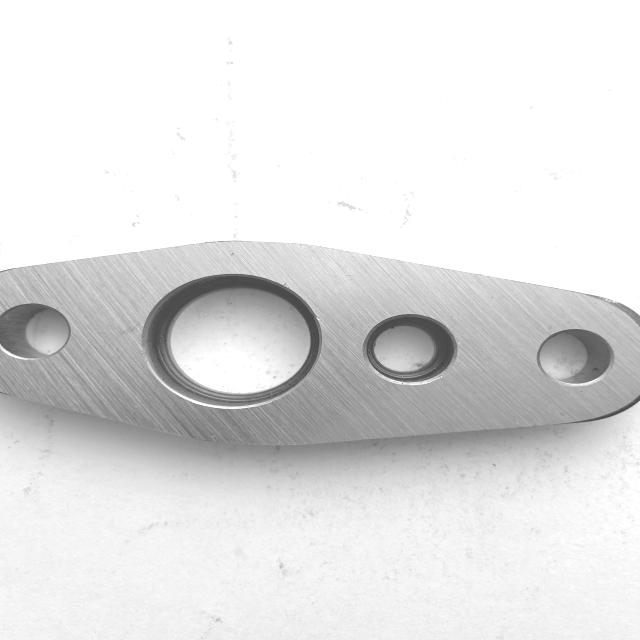chap: (280, 280, 292, 290), (227, 250, 237, 258), (314, 314, 324, 322)
lines: (112, 321, 140, 338)
